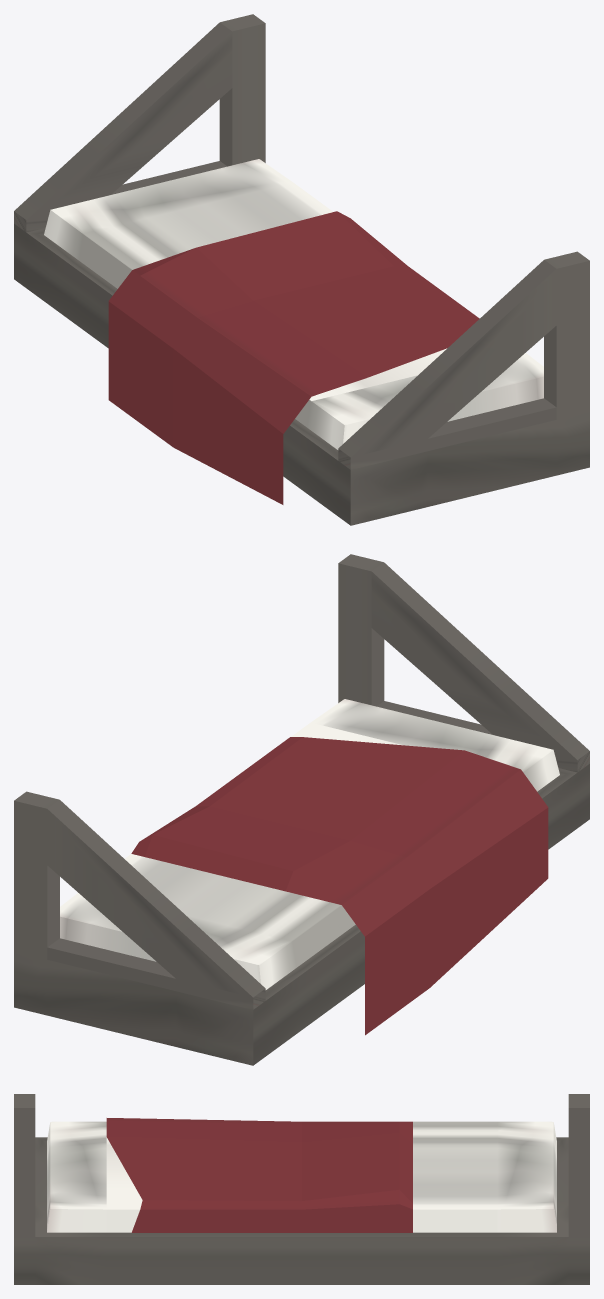
Rendered from bed 2.glb.
3 views of the same model, one above another, from view 1: azimuth 30°, elevation 25°; view 2: azimuth 150°, elevation 25°; view 3: azimuth 270°, elevation 25° (orthographic). The views are drawn at different scales.
Visible parts, largest first — view 1: Bed 2; view 2: Bed 2; view 3: Bed 2.
Part boxes in pixels (x1,y1,x2,y2): Bed 2: (14,14,589,525); Bed 2: (14,554,589,1065); Bed 2: (14,1094,589,1284).
Size of the model in its own units: 1.19 by 1.13 by 2.76.
Materials: 1 (1 with a texture image).
